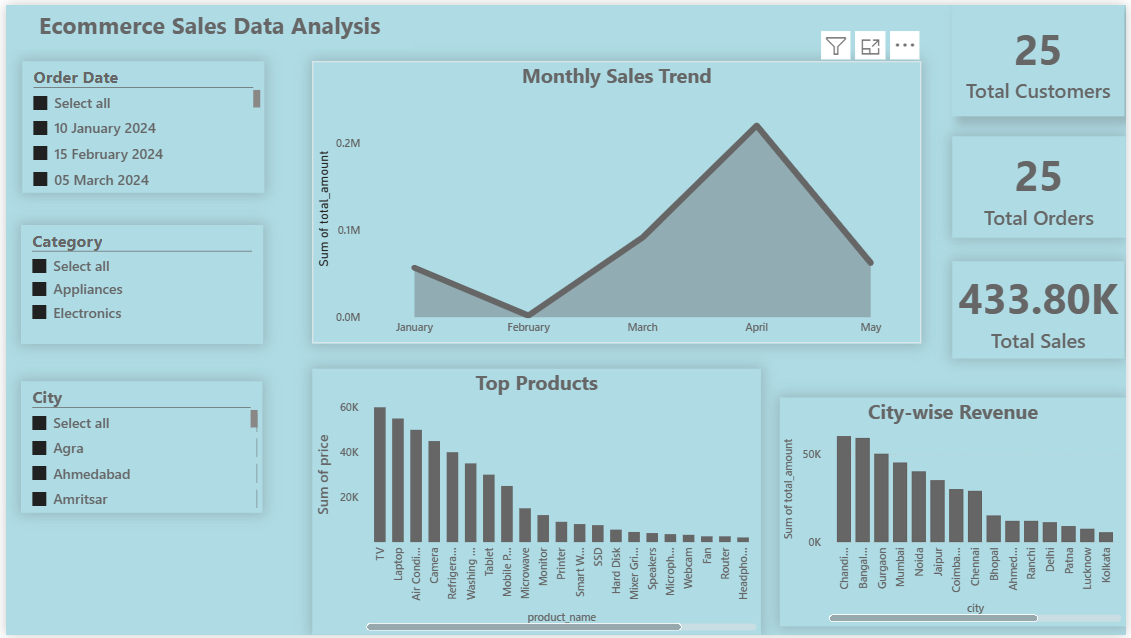

The page's visual inventory and layout, read from the dashboard file:
{"tool":"powerbi","page":{"name":"Page 1","canvas":[1280,720],"ordinal":0},"visuals":[{"type":"lineChart","title":"Monthly Sales Trend","fields":{"Category":["ecommerce_db orders.order_date.Variation.Date Hierarchy.Month"],"Y":["Sum(ecommerce_db orders.total_amount)"]},"box":[350,64.3,695.7,322.9],"z":0},{"type":"columnChart","title":"Top Products","fields":{"Category":["ecommerce_db products.product_name"],"Y":["Sum(ecommerce_db products.price)"]},"box":[350,415.7,512.9,304.3],"z":1000},{"type":"lineStackedColumnComboChart","title":"City-wise Revenue","fields":{"Category":["ecommerce_db customers.city"],"Y":["Sum(ecommerce_db orders.total_amount)"]},"box":[884.3,448.6,395.7,261.4],"z":2000},{"type":"card","fields":{"Values":["ecommerce_db customers.Total Sales"]},"box":[1081.4,292.9,197.1,111.4],"z":3000},{"type":"card","fields":{"Values":["ecommerce_db customers.Total Orders"]},"box":[1081.4,150,198.6,115.7],"z":4000},{"type":"card","fields":{"Values":["ecommerce_db customers.Total Customers"]},"box":[1081.4,0,197.1,127.1],"z":5000},{"type":"slicer","fields":{"Values":["ecommerce_db customers.city"]},"box":[17.1,430,275.7,150],"z":6000},{"type":"slicer","fields":{"Values":["ecommerce_db products.category"]},"box":[17.1,251.4,277.1,135.7],"z":7000},{"type":"slicer","fields":{"Values":["ecommerce_db orders.order_date"]},"box":[18.6,64.3,277.1,150],"z":8000},{"type":"textbox","box":[0,0,465.7,50],"z":8001}]}

Visuals, with their boxes in screenshot pixels (x1, y1, x2, y2), scaled from the page's 1280x720 canvas onto the 1131x638 screenshot:
"Monthly Sales Trend" lineChart: [309,57,924,343]
"Top Products" columnChart: [309,368,762,637]
"City-wise Revenue" lineStackedColumnComboChart: [781,398,1130,629]
card - ecommerce_db customers.Total Sales: [956,260,1130,358]
card - ecommerce_db customers.Total Orders: [956,133,1130,235]
card - ecommerce_db customers.Total Customers: [956,0,1130,113]
slicer - ecommerce_db customers.city: [15,381,259,514]
slicer - ecommerce_db products.category: [15,223,260,343]
slicer - ecommerce_db orders.order_date: [16,57,261,190]
textbox: [0,0,411,44]
